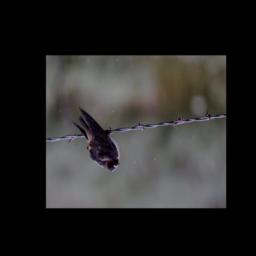Swallow: (71, 106, 121, 173)
